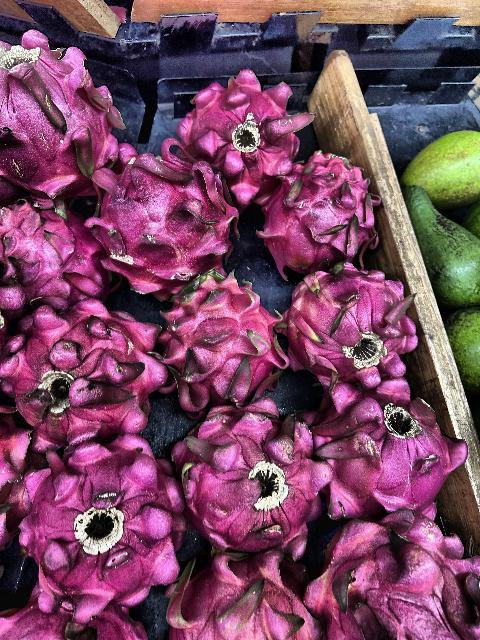buah-naga-matang: (22, 440, 194, 608), (308, 504, 480, 640), (5, 302, 170, 438), (94, 146, 254, 284), (308, 378, 464, 518), (181, 399, 325, 548), (0, 29, 128, 195), (294, 252, 432, 393), (153, 272, 289, 414), (165, 542, 321, 640), (173, 77, 303, 193), (0, 190, 108, 316), (259, 162, 377, 272)
